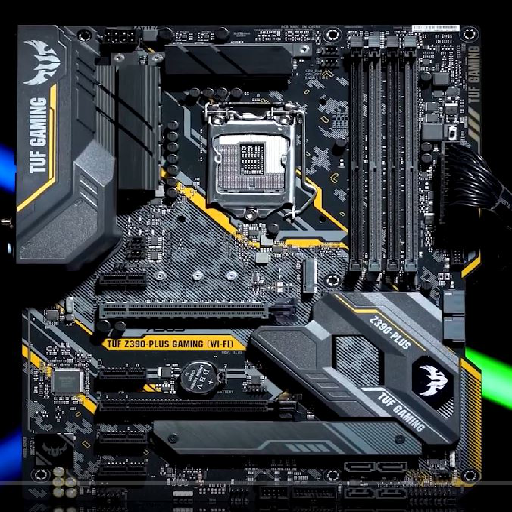CPU: (205, 112, 296, 221)
GPU: (97, 296, 299, 323), (98, 392, 300, 419)
MOTHERBOARD: (16, 23, 484, 493)
RAM: (347, 34, 421, 277)
SSD: (301, 258, 316, 293)
